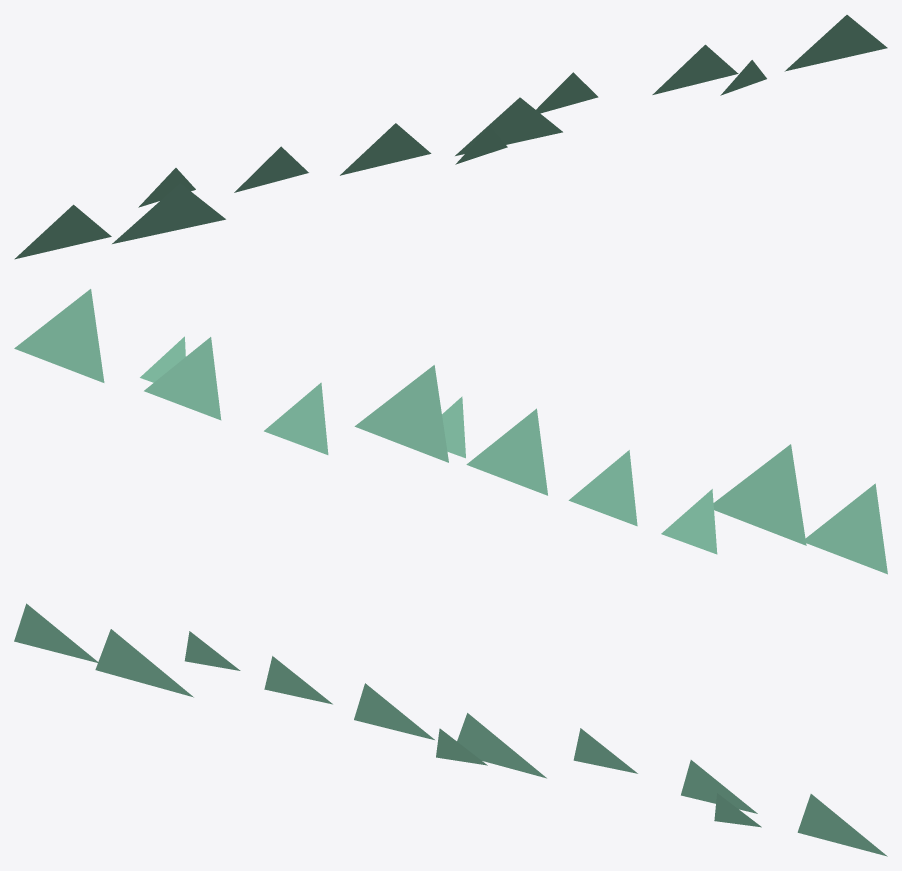
The model's file is prop_bulk_gen_0409_lod2.gltf.
The picture shows the model from 3 angles, top to bottom: view 1: azimuth 30°, elevation 25°; view 2: azimuth 150°, elevation 25°; view 3: azimuth 330°, elevation 25°; orthographic projection.
Parts seen in each view (by area): view 1: prop_bulk_gen_0409_lod2; view 2: prop_bulk_gen_0409_lod2; view 3: prop_bulk_gen_0409_lod2.
Boxes of the visible parts, left/top/right/bottom form: prop_bulk_gen_0409_lod2: left=14, top=15, right=887, bottom=259; prop_bulk_gen_0409_lod2: left=14, top=289, right=887, bottom=574; prop_bulk_gen_0409_lod2: left=14, top=603, right=887, bottom=856.
Bounding box in the file's own units: 0.6834 × 0.0532 × 0.0785.
